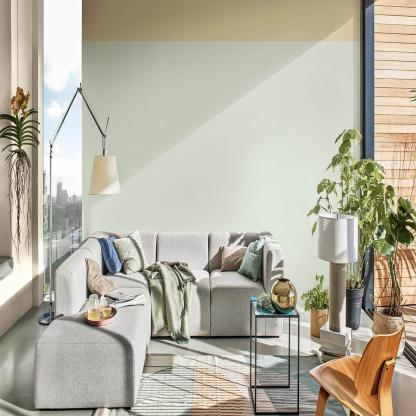kursi: (305, 329, 407, 416)
lampu: (43, 86, 121, 230), (316, 210, 354, 330)
meja: (250, 295, 302, 416)
sova: (54, 226, 291, 410)
tanaman: (339, 139, 412, 254)
